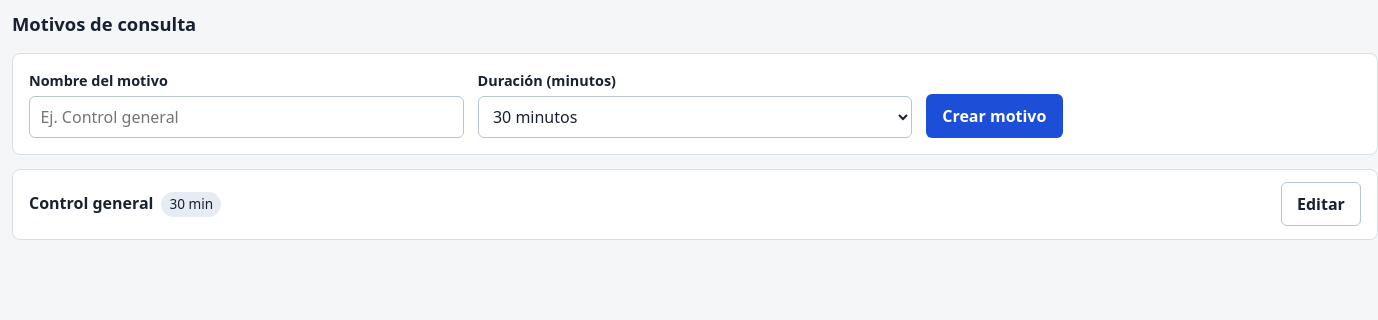
Scenario: MotivosSection › muestra error ante 400 VALIDATION_ERROR o 404 MOTIVO_NOT_FOUND sin alterar la lista
Expected: the text "Control general" is shown, left=29, top=192, right=154, bottom=214
Click the button "Editar" at (1321, 204), box left=1281, top=182, right=1361, bottom=226
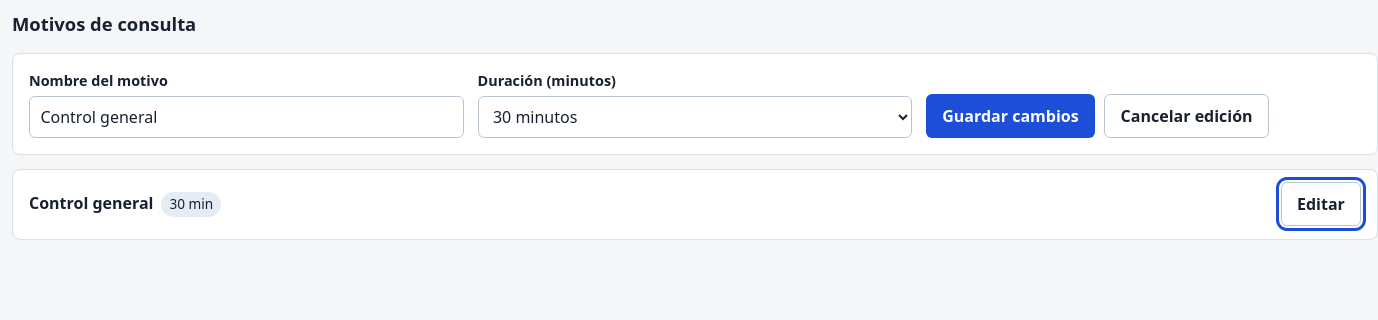
Click the button "Guardar cambios" at (1010, 116), box left=926, top=94, right=1095, bottom=138
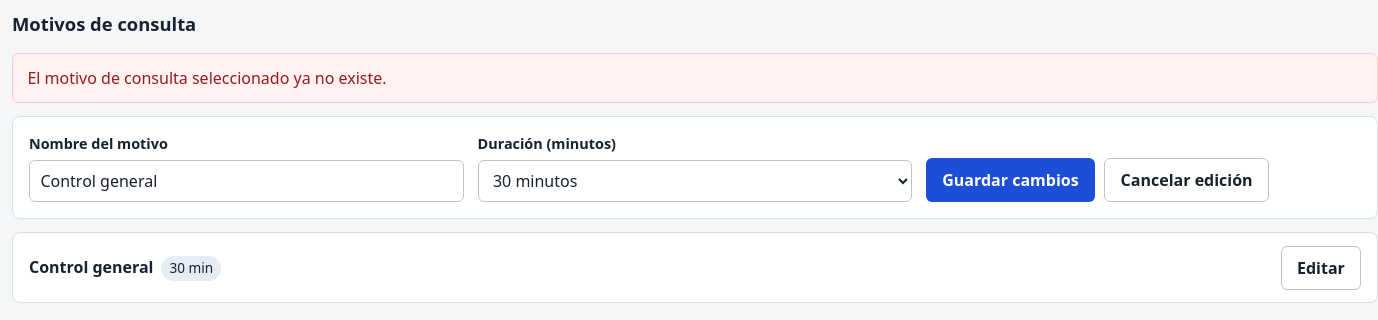
Expected: the text "Control general" is shown, left=29, top=256, right=154, bottom=278
Result: the message shows "ya no existe" at left=27, top=67, right=387, bottom=89
